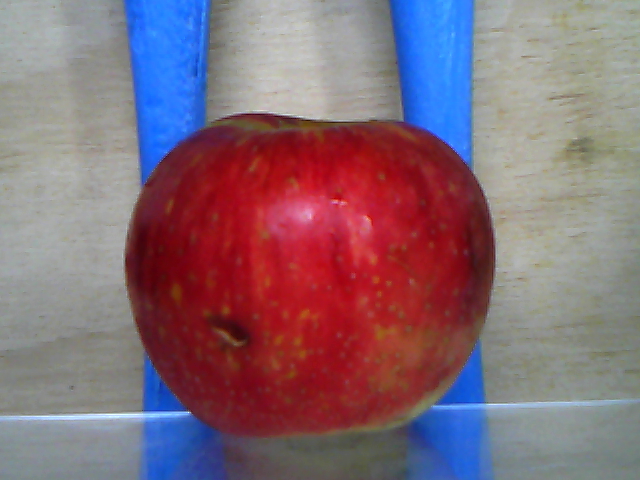cut: (209, 326, 247, 349)
